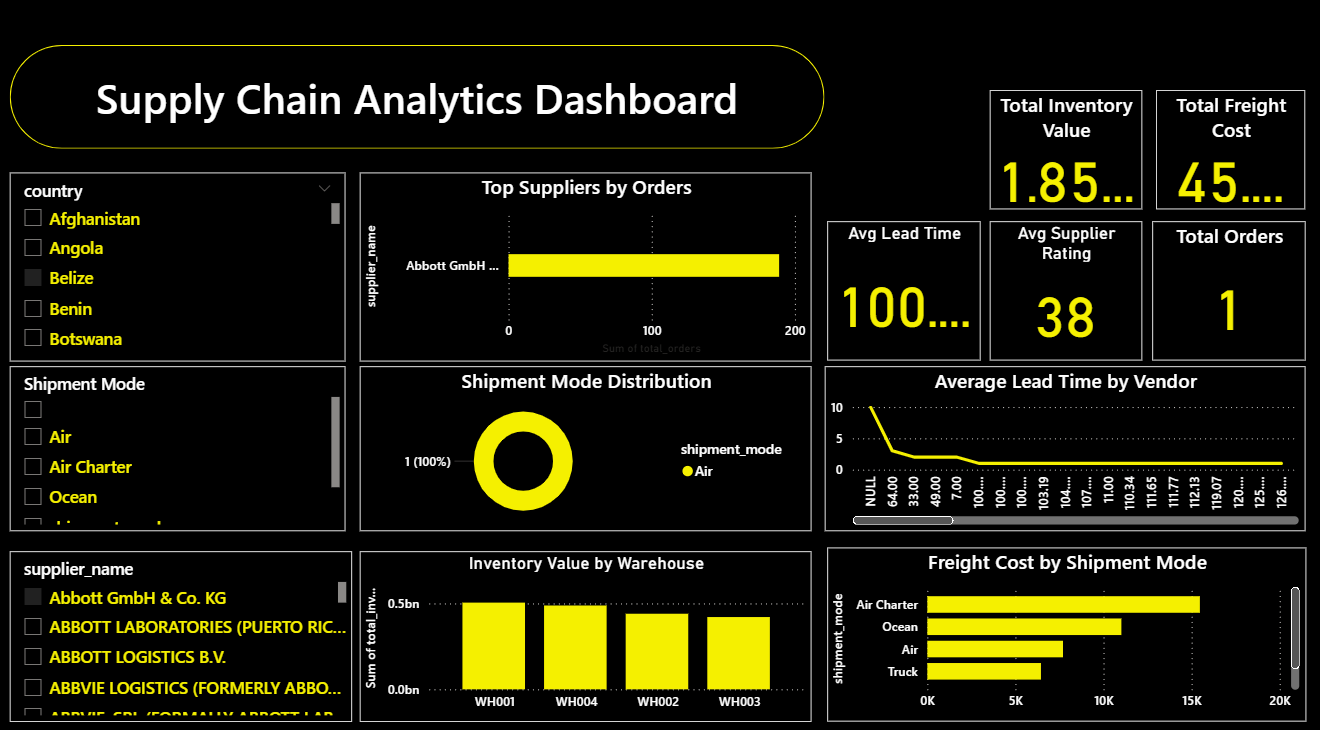

The dashboard page shown, as its layout file describes it:
{"tool":"powerbi","page":{"name":"Page 1","canvas":[1280,720],"ordinal":0},"visuals":[{"type":"card","title":"Total Inventory Value","fields":{"Values":["Sum(kpi_inventory_performance.total_inventory_value)"]},"box":[959.2,96.1,146.8,115.3],"z":0},{"type":"card","title":"Total Orders","fields":{"Values":["Sum(kpi_order_fulfillment.total_orders)"]},"box":[1115.6,223.7,148.2,134.5],"z":1000},{"type":"card","title":"Total Freight Cost","fields":{"Values":["Sum(kpi_logistics_cost_analysis.avg_freight_cost)"]},"box":[1119.7,96.1,144.1,115.3],"z":2000},{"type":"card","title":"Avg Supplier Rating","fields":{"Values":["Sum(kpi_supplier_performance.supplier_rating)"]},"box":[959.2,223.7,146.8,134.5],"z":3000},{"type":"card","title":"Avg Lead Time","fields":{"Values":["Min(kpi_lead_time_analysis.Column3)"]},"box":[802.7,223.7,148.2,134.5],"z":4000},{"type":"clusteredBarChart","title":"Top Suppliers by Orders","fields":{"Category":["kpi_supplier_performance.supplier_name"],"Y":["Sum(kpi_supplier_performance.total_orders)"]},"box":[351.3,175.6,436.4,182.5],"z":5000},{"type":"clusteredColumnChart","title":"Inventory Value by Warehouse","fields":{"Category":["kpi_inventory_performance.warehouse_id"],"Y":["Sum(kpi_inventory_performance.total_inventory_value)"]},"box":[351.3,542,436.4,164.7],"z":6000},{"type":"donutChart","title":"Shipment Mode Distribution","fields":{"Category":["kpi_order_fulfillment.shipment_mode"],"Y":["Sum(kpi_order_fulfillment.total_orders)"]},"box":[351.3,363.6,436.4,159.2],"z":7000},{"type":"lineChart","title":"Average Lead Time by Vendor","fields":{"Category":["kpi_lead_time_analysis.Column3"],"Y":["CountNonNull(kpi_lead_time_analysis.Column1)"]},"box":[800,363.6,463.8,159.2],"z":8000},{"type":"barChart","title":"Freight Cost by Shipment Mode","fields":{"Category":["kpi_logistics_cost_analysis.shipment_mode"],"Y":["Sum(kpi_logistics_cost_analysis.avg_freight_cost)"]},"box":[802.7,542,461.1,167.4],"z":9000},{"type":"slicer","fields":{"Values":["kpi_order_fulfillment.country"]},"box":[13.7,175.6,323.8,182.5],"z":9001},{"type":"slicer","fields":{"Values":["kpi_supplier_performance.supplier_name"]},"box":[13.7,542,330.7,164.7],"z":9002},{"type":"slicer","fields":{"Values":["kpi_lead_time_analysis.Column2"]},"box":[13.7,363.6,323.8,159.2],"z":9003},{"type":"shape","box":[13.7,53.5,786.3,100.2],"z":9004}]}

Visuals, with their boxes in screenshot pixels (x1, y1, x2, y2), scaled from the page's 1280x720 canvas onto the 1320x730 screenshot:
"Total Inventory Value" card: 989, 97, 1141, 214
"Total Orders" card: 1150, 227, 1303, 363
"Total Freight Cost" card: 1155, 97, 1303, 214
"Avg Supplier Rating" card: 989, 227, 1141, 363
"Avg Lead Time" card: 828, 227, 981, 363
"Top Suppliers by Orders" clusteredBarChart: 362, 178, 812, 363
"Inventory Value by Warehouse" clusteredColumnChart: 362, 550, 812, 717
"Shipment Mode Distribution" donutChart: 362, 369, 812, 530
"Average Lead Time by Vendor" lineChart: 825, 369, 1303, 530
"Freight Cost by Shipment Mode" barChart: 828, 550, 1303, 719
slicer - kpi_order_fulfillment.country: 14, 178, 348, 363
slicer - kpi_supplier_performance.supplier_name: 14, 550, 355, 717
slicer - kpi_lead_time_analysis.Column2: 14, 369, 348, 530
shape: 14, 54, 825, 156
